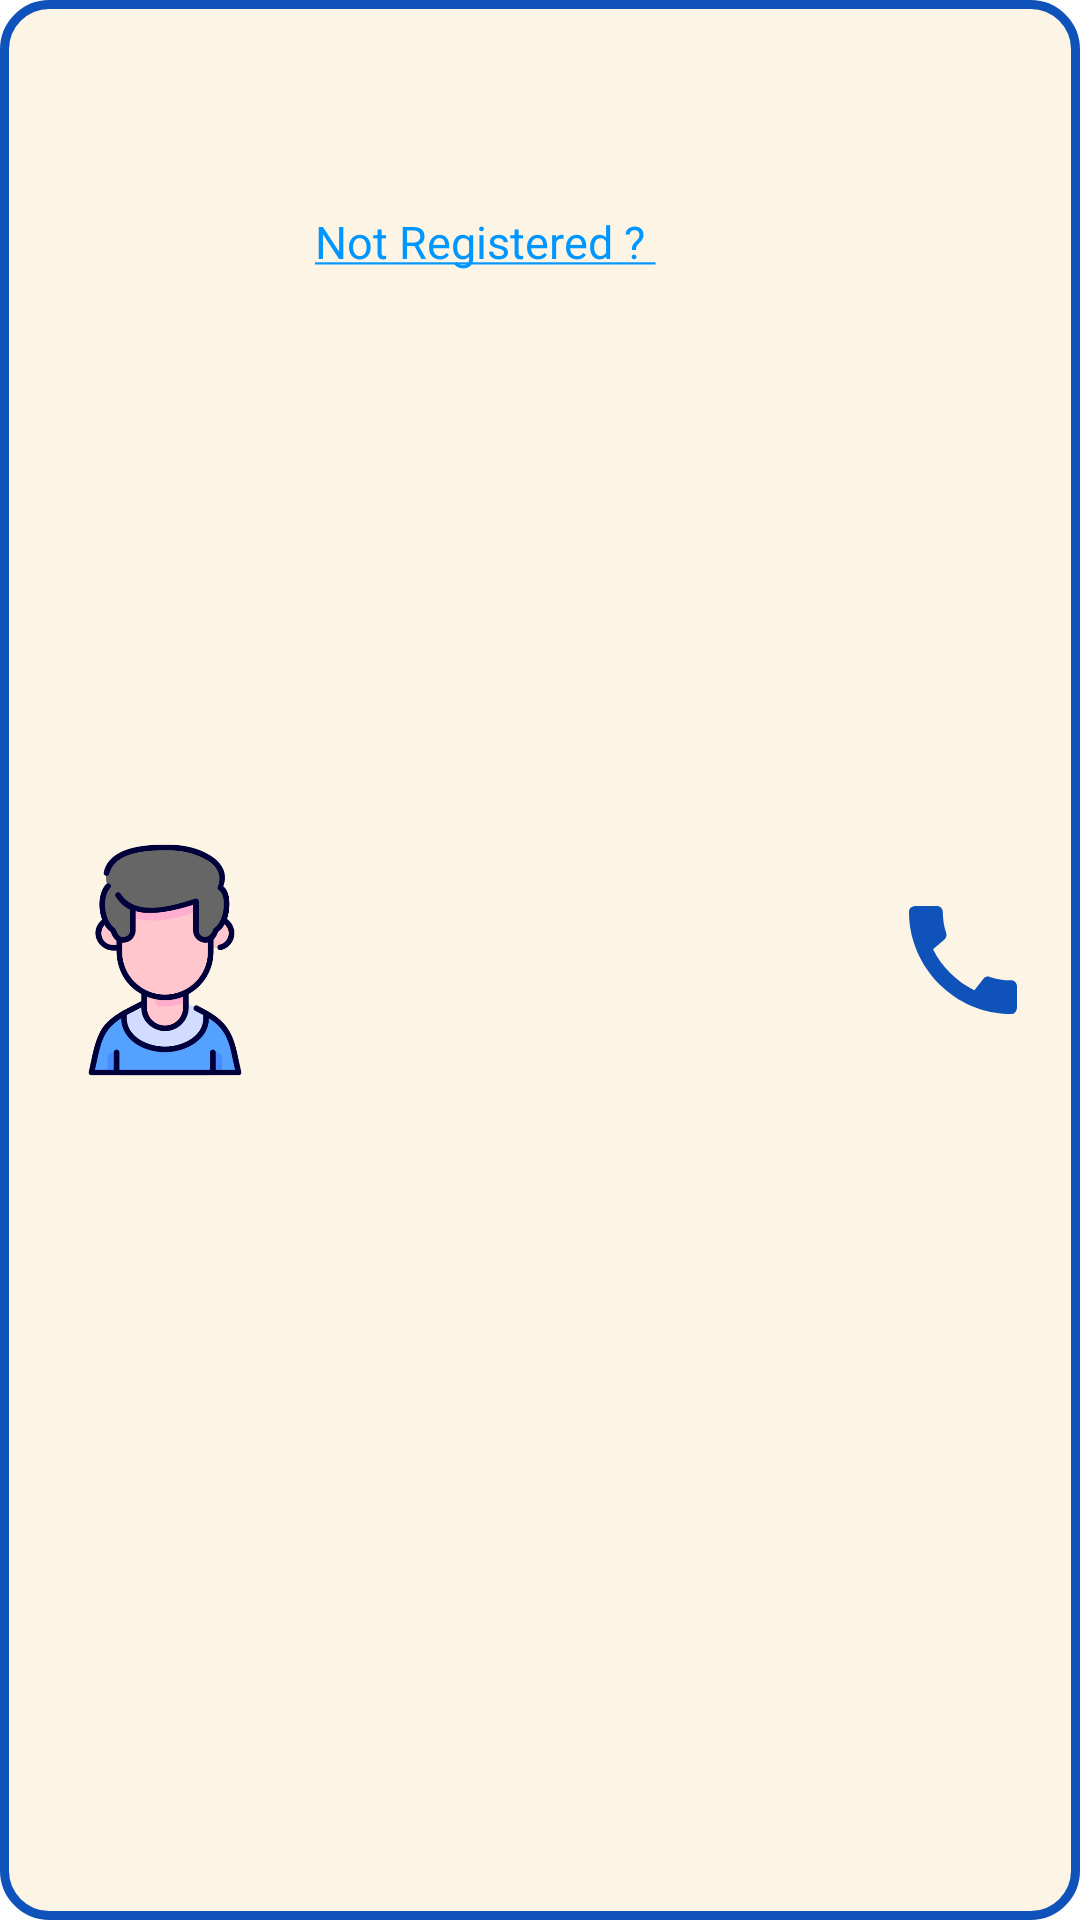

Icons on this 1080 x 1920 Android screen, each with the point to tap as (x=x, y=y):
call: (x=963, y=960)
male: (x=165, y=960)
